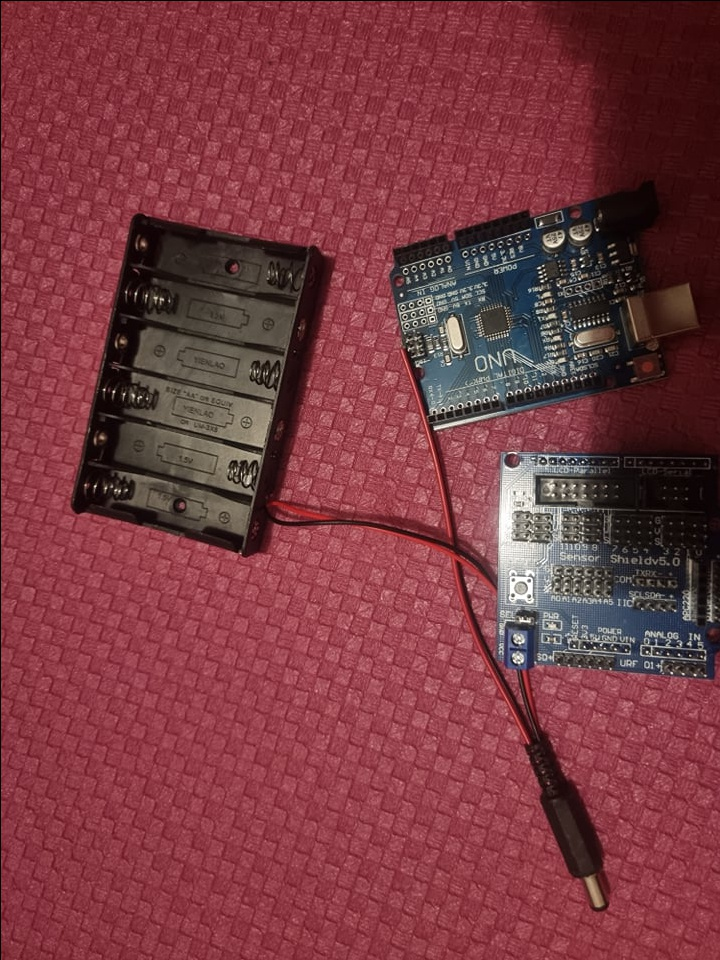5V EXPANSION: (498, 447, 717, 681)
BATTERY BOX: (65, 214, 331, 555)
UNO R3: (392, 184, 694, 431)
